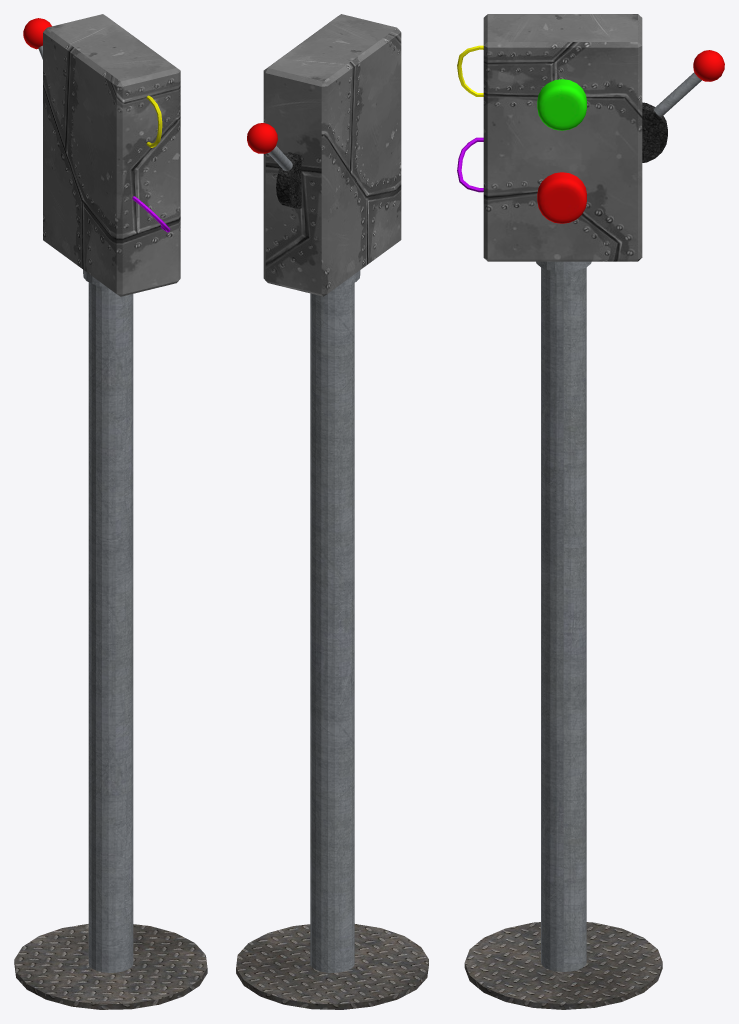
Rendered from control_pedestal.gltf.
3 renders of one model, left to right at view 1: azimuth 30°, elevation 25°; view 2: azimuth 150°, elevation 25°; view 3: azimuth 270°, elevation 25°, orthographic. The views are drawn at different scales.
Parts seen in each view (by area): view 1: control_pedestal; view 2: control_pedestal; view 3: control_pedestal.
Part boxes in pixels (<box>): control_pedestal: <box>14,14,207,1009</box>; control_pedestal: <box>236,14,428,1009</box>; control_pedestal: <box>457,14,724,1009</box>.
Bounding box in the file's own units: 0.3054 × 1.6 × 0.413.
Materials: 1 (1 with a texture image).
